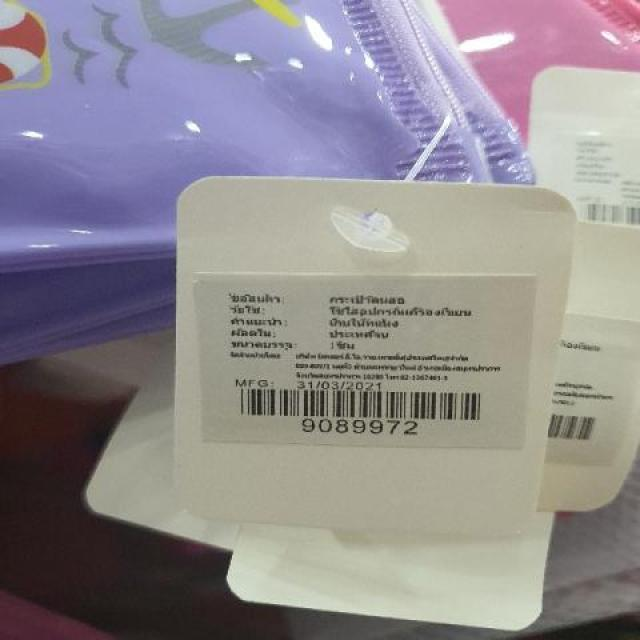Barcode: (234, 383, 494, 438)
